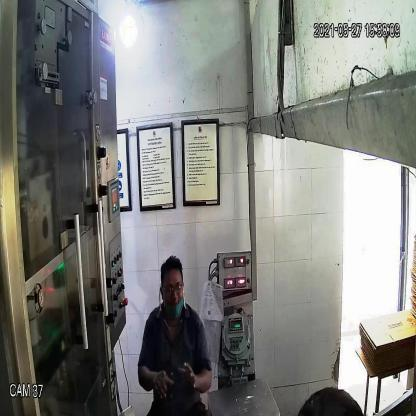goggles: (157, 280, 188, 301)
